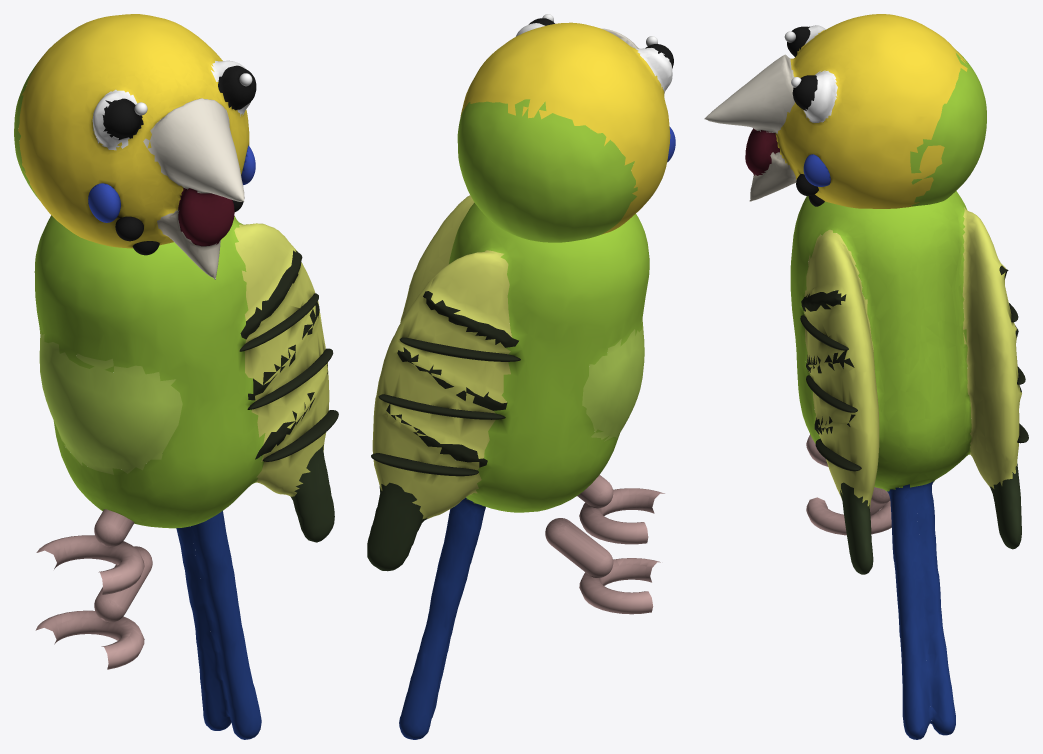
File: vad-roligt.glb
3 renders of one model, left to right at view 1: azimuth 30°, elevation 25°; view 2: azimuth 150°, elevation 25°; view 3: azimuth 270°, elevation 25°, orthographic. The views are drawn at different scales.
Visible parts, largest first — view 1: periquito__r0, cabeca__r0, periquito__r7, periquito__r5, periquito__r4, periquito__r6, cabeca__r6, periquito__r3, periquito__r2, periquito__r1, cabeca__r1; view 2: periquito__r0, cabeca__r0, periquito__r5, periquito__r7, periquito__r4, periquito__r8, periquito__r10, periquito__r9, periquito__r6; view 3: periquito__r0, cabeca__r0, periquito__r5, cabeca__r8.
Part boxes in pixels (x1,y1,x2,y2): periquito__r0: (34, 215, 334, 739); cabeca__r0: (14, 14, 256, 279); periquito__r7: (36, 535, 144, 594); periquito__r5: (35, 610, 144, 669); periquito__r4: (94, 546, 152, 622); periquito__r6: (94, 509, 134, 546); cabeca__r6: (88, 183, 120, 222); periquito__r3: (262, 410, 338, 461); periquito__r2: (247, 348, 333, 409); periquito__r1: (239, 293, 318, 351); cabeca__r1: (115, 216, 143, 241); periquito__r0: (367, 195, 649, 739); cabeca__r0: (457, 18, 673, 242); periquito__r5: (579, 558, 660, 614); periquito__r7: (579, 488, 664, 544); periquito__r4: (545, 518, 613, 577); periquito__r8: (399, 337, 520, 361); periquito__r10: (371, 453, 478, 476); periquito__r9: (378, 394, 505, 419); periquito__r6: (577, 475, 613, 508); periquito__r0: (790, 191, 1021, 739); cabeca__r0: (704, 14, 986, 208); periquito__r5: (806, 497, 891, 535); cabeca__r8: (803, 154, 830, 186).
Bounding box in the file's own units: 0.7778 × 1.95 × 0.8705.
